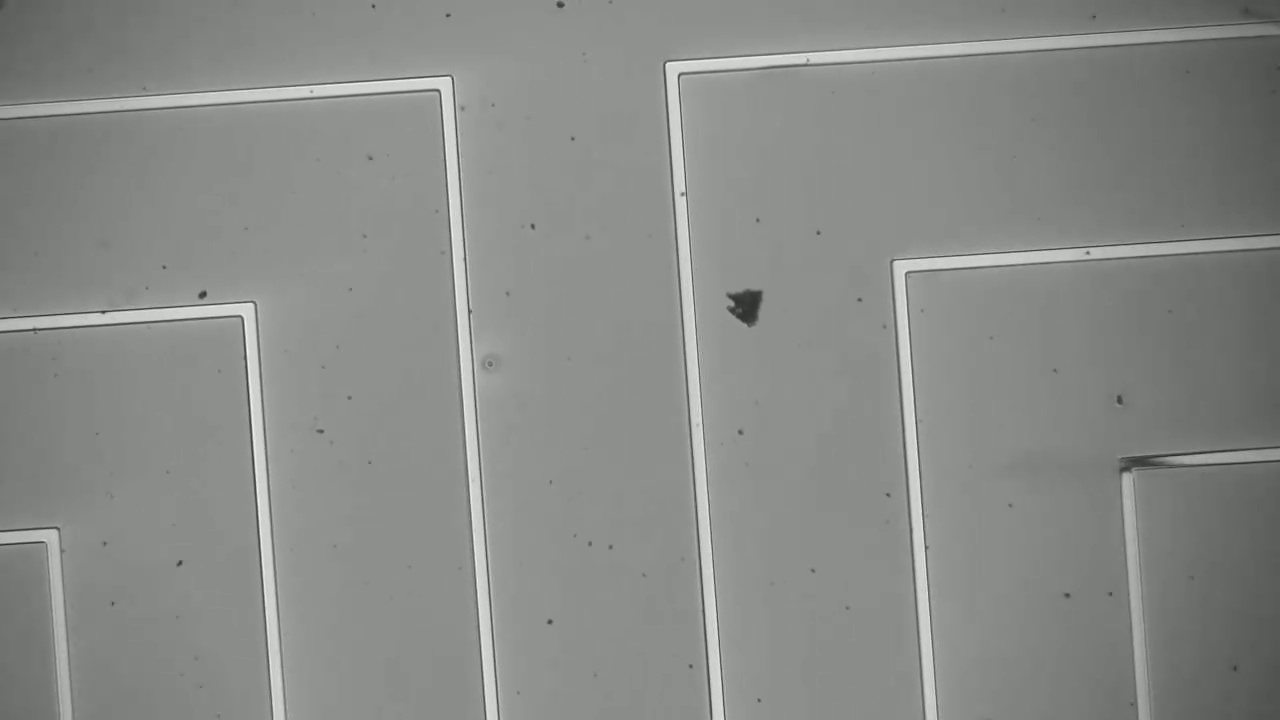gray_line: (1108, 438, 1187, 487)
